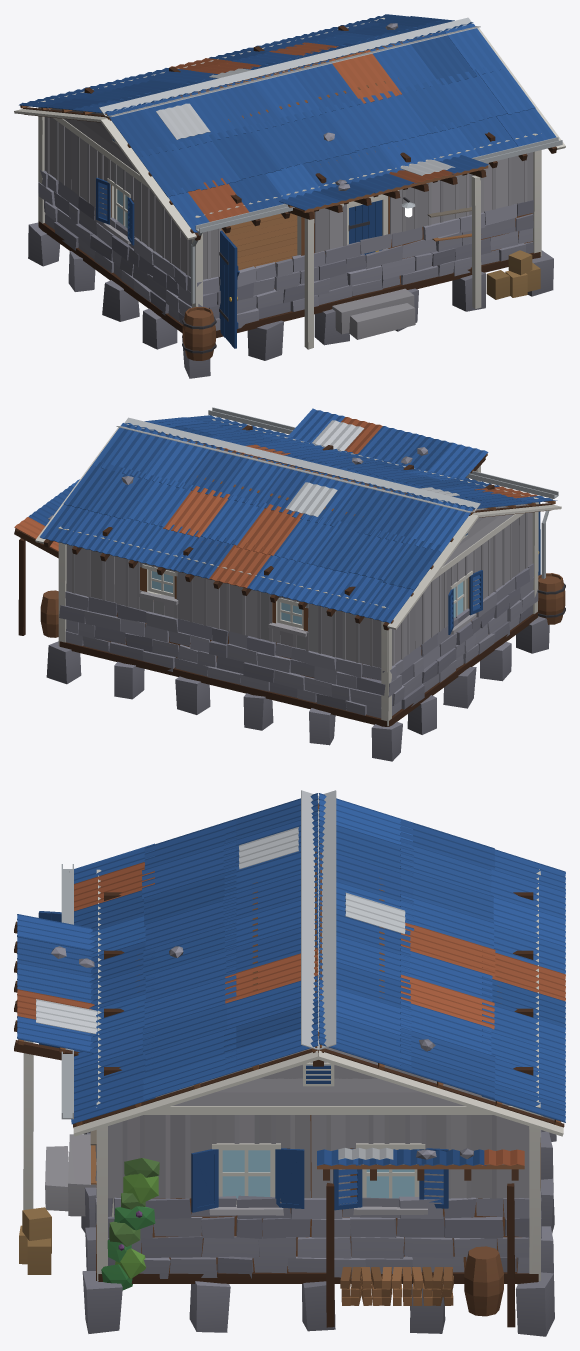
3 views of the same model, one above another, from view 1: azimuth 30°, elevation 25°; view 2: azimuth 150°, elevation 25°; view 3: azimuth 270°, elevation 25° (orthographic). The views are drawn at different scales.
Parts seen in each view (by area): view 1: P03_ROOF, P03_WALL_S, P03_WALL_W, P03_BASE, P03_DOOR_main; view 2: P03_ROOF, P03_WALL_N, P03_WALL_W, P03_BASE, P03_WALL_S, P03_WALL_E; view 3: P03_ROOF, P03_WALL_E, P03_BASE, P03_WALL_S, P03_WALL_N.
Boxes of the visible parts, x1,y1,x2,y2 form: P03_ROOF: (14,14,565,240); P03_WALL_S: (182,133,562,360); P03_WALL_W: (38,101,197,324); P03_BASE: (28,213,553,378); P03_DOOR_main: (348,200,382,255); P03_ROOF: (35,415,561,630); P03_WALL_N: (58,526,387,725); P03_WALL_W: (384,498,538,725); P03_BASE: (46,612,549,761); P03_WALL_S: (208,407,565,624); P03_WALL_E: (14,419,214,637); P03_ROOF: (71,790,565,1136); P03_WALL_E: (96,1031,540,1327); P03_BASE: (45,1116,556,1336); P03_WALL_S: (14,864,114,1274); P03_WALL_N: (529,871,543,1280).
Bounding box in the file's own units: 8.67 × 4.13 × 7.02.
